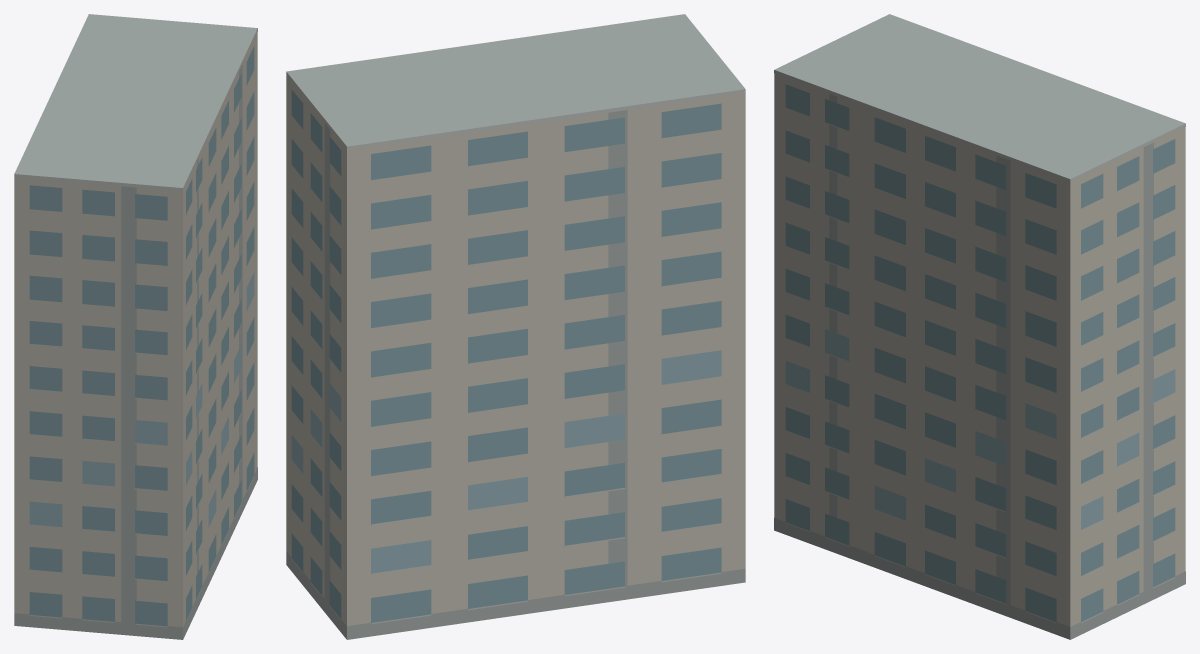
Rendered from residential-70095cca-1392-41e2-8ae9-f588d9a42c64.glb.
3 views of the same model, side by side, from view 1: azimuth 30°, elevation 25°; view 2: azimuth 150°, elevation 25°; view 3: azimuth 270°, elevation 25° (orthographic). The views are drawn at different scales.
Visible parts, largest first — view 1: residential-70095cca-1392-41e2-8ae9-f588d9a42c64.tmp; view 2: residential-70095cca-1392-41e2-8ae9-f588d9a42c64.tmp; view 3: residential-70095cca-1392-41e2-8ae9-f588d9a42c64.tmp.
Part boxes in pixels (bbox=[...]): residential-70095cca-1392-41e2-8ae9-f588d9a42c64.tmp: bbox=[14, 14, 257, 639]; residential-70095cca-1392-41e2-8ae9-f588d9a42c64.tmp: bbox=[286, 14, 745, 639]; residential-70095cca-1392-41e2-8ae9-f588d9a42c64.tmp: bbox=[774, 14, 1185, 639].
Size of the model in its own units: 24.63 by 32 by 25.92.
